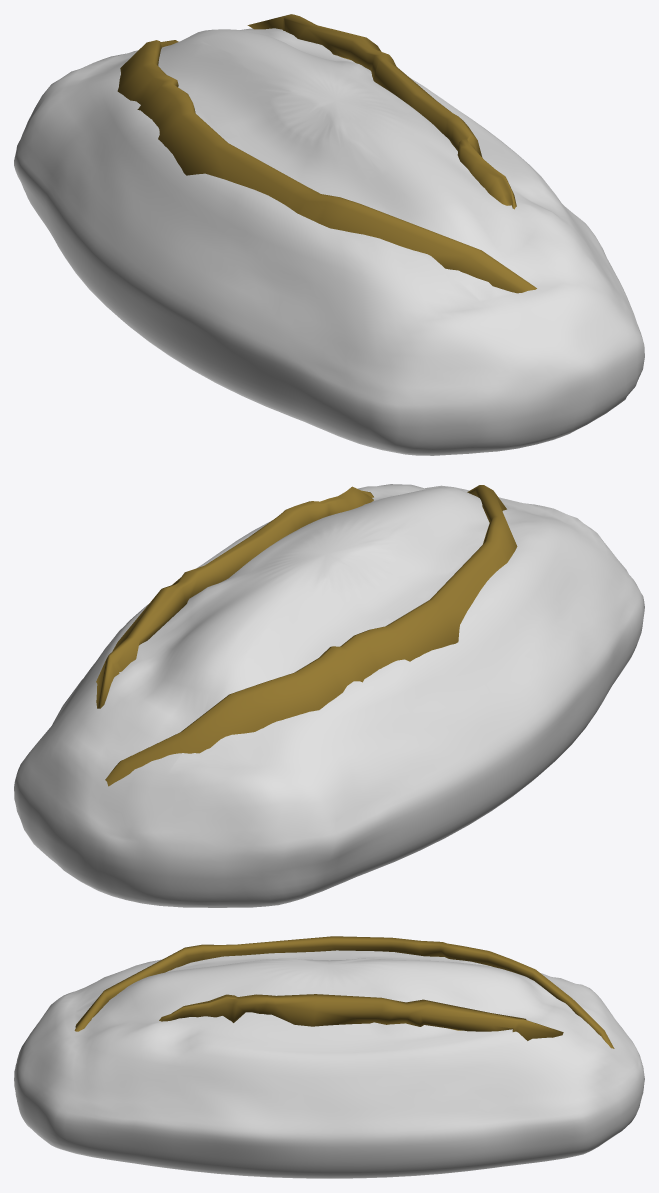
The model's file is PainComplet 1.fbx.
3 views of the same model, one above another, from view 1: azimuth 30°, elevation 25°; view 2: azimuth 150°, elevation 25°; view 3: azimuth 270°, elevation 25° (orthographic). The views are drawn at different scales.
Visible parts, largest first — view 1: Dought.001, Dought.004, Dought.005; view 2: Dought.001, Dought.004, Dought.005; view 3: Dought.001, Dought.005, Dought.004.
Boxes of the visible parts, x1,y1,x2,y2 form: Dought.001: (14,28,644,455); Dought.004: (117,40,536,293); Dought.005: (247,14,516,209); Dought.001: (14,484,644,907); Dought.004: (105,485,517,786); Dought.005: (96,486,373,708); Dought.001: (14,950,644,1178); Dought.005: (159,994,563,1040); Dought.004: (74,936,614,1048).
Size of the model in its own units: 85.53 by 43.79 by 155.
